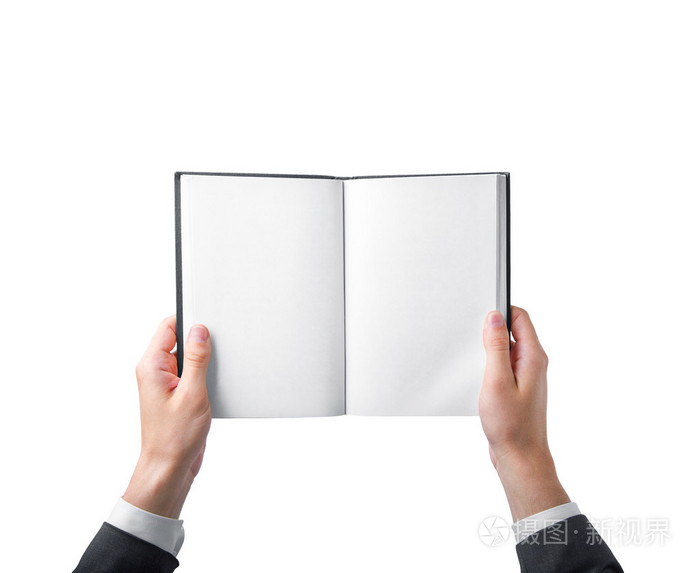no-phone: (129, 304, 286, 485), (419, 295, 557, 467)
